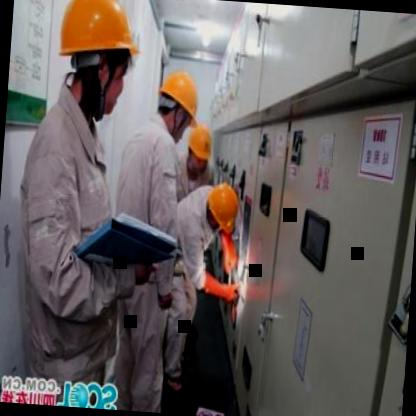helmet: (49, 0, 145, 124), (154, 64, 202, 142), (202, 180, 242, 237), (184, 120, 216, 178)
